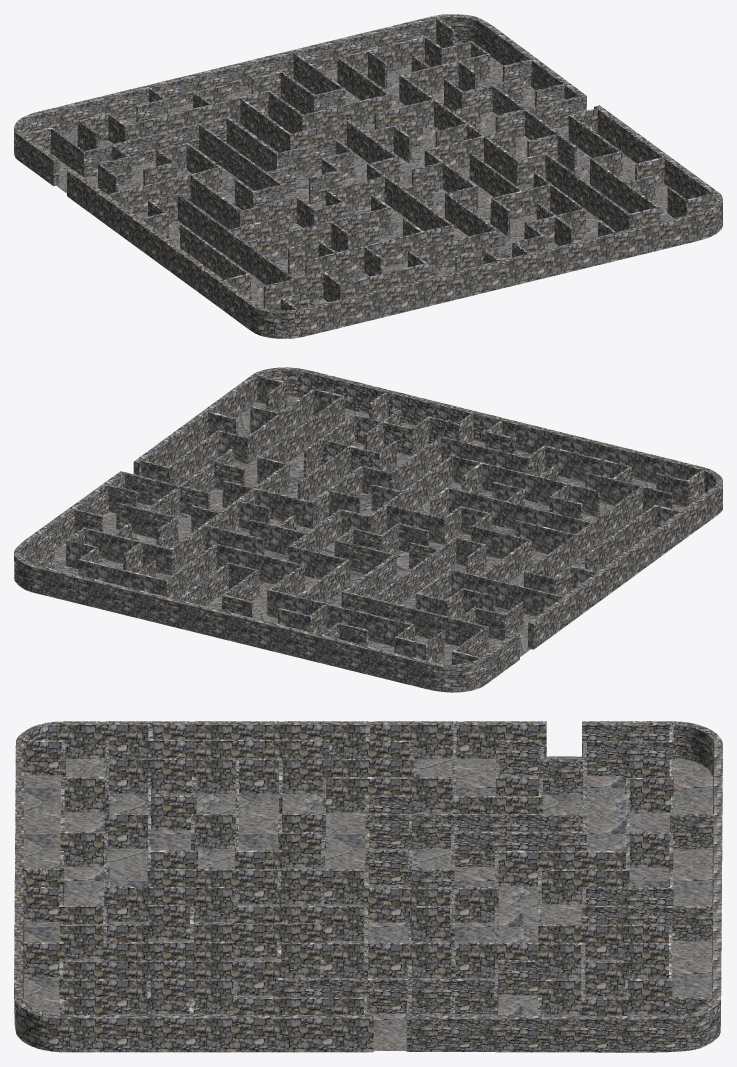
Rendered from Maze.fbx.
3 renders of one model, top to bottom at view 1: azimuth 30°, elevation 25°; view 2: azimuth 150°, elevation 25°; view 3: azimuth 270°, elevation 25°, orthographic. The views are drawn at different scales.
Visible parts, largest first — view 1: Maze2, Maze1, Ground; view 2: Maze2, Maze1, Ground; view 3: Maze2, Maze1, Ground.
Boxes of the visible parts, box(x1,y1,x2,y2) form: Maze2: box(67, 36, 722, 338); Maze1: box(14, 14, 586, 209); Ground: box(56, 42, 673, 310); Maze2: box(66, 367, 722, 662); Maze1: box(14, 448, 523, 692); Ground: box(52, 396, 685, 664); Maze2: box(14, 721, 673, 1052); Maze1: box(276, 721, 722, 1052); Ground: box(23, 756, 713, 1050).
Size of the model in its own units: 37.89 by 2.08 by 38.07.
2 materials, 2 textured.
